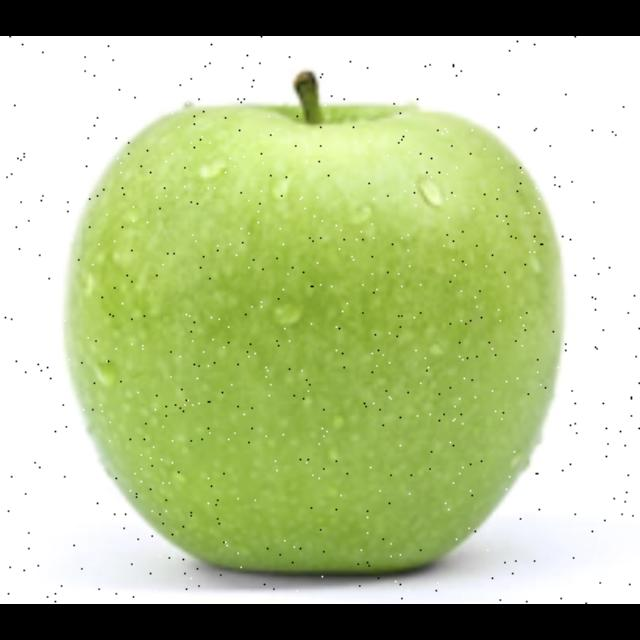Apel Segar: (58, 70, 570, 582)
